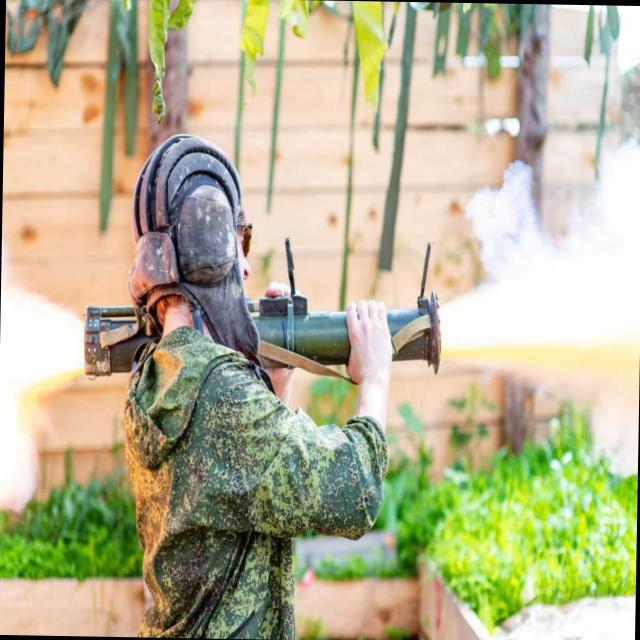rocket: (79, 288, 442, 393)
